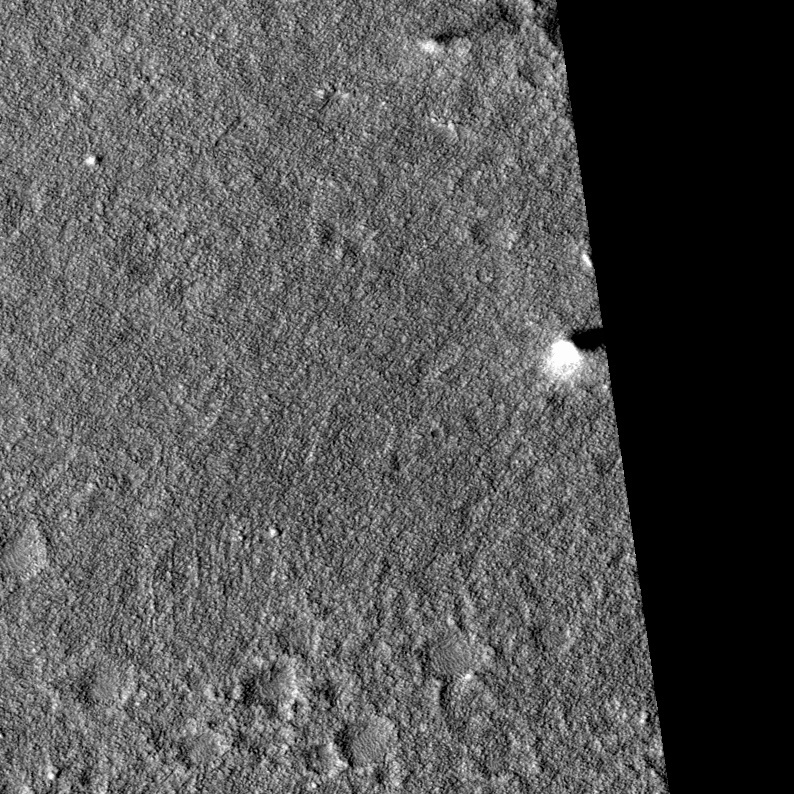dust_devil: (417, 5, 512, 57), (544, 325, 607, 378)
